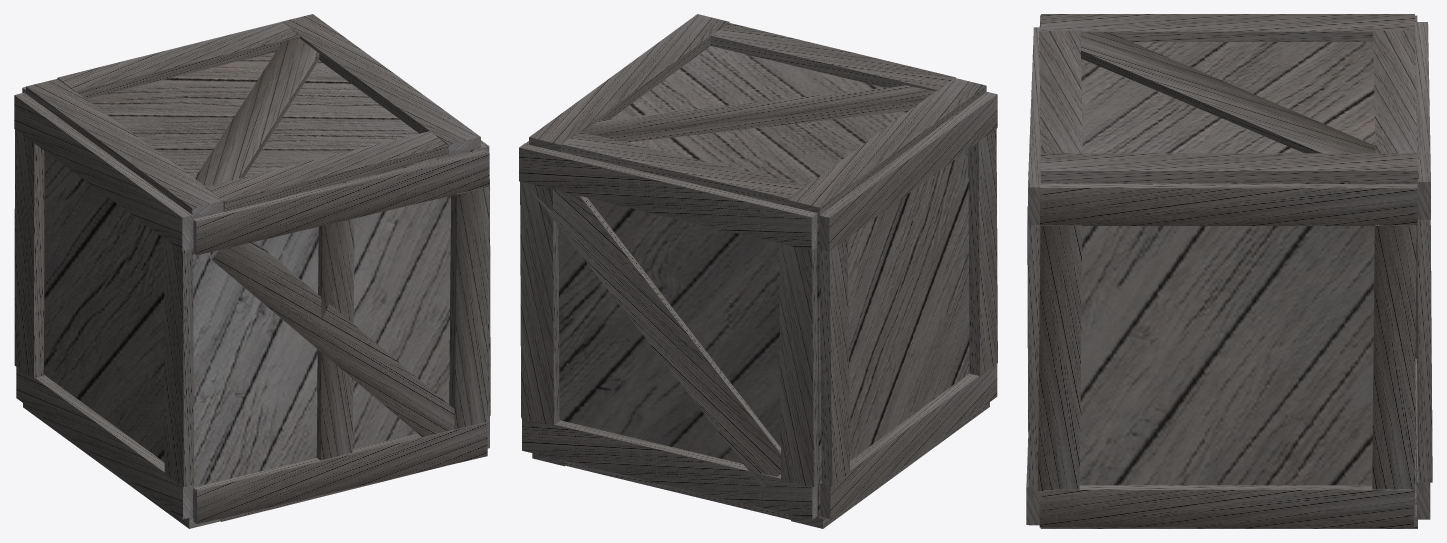
Rendered from Crate.glb.
3 renders of one model, left to right at view 1: azimuth 30°, elevation 25°; view 2: azimuth 150°, elevation 25°; view 3: azimuth 270°, elevation 25°, orthographic. The views are drawn at different scales.
Visible parts, largest first — view 1: Cube; view 2: Cube; view 3: Cube.
Boxes of the visible parts, box(x1,y1,x2,y2) form: Cube: box(14, 14, 490, 528); Cube: box(519, 14, 997, 528); Cube: box(1026, 14, 1432, 528).
Size of the model in its own units: 2.15 by 2.13 by 2.17.
4 materials, 4 textured.
